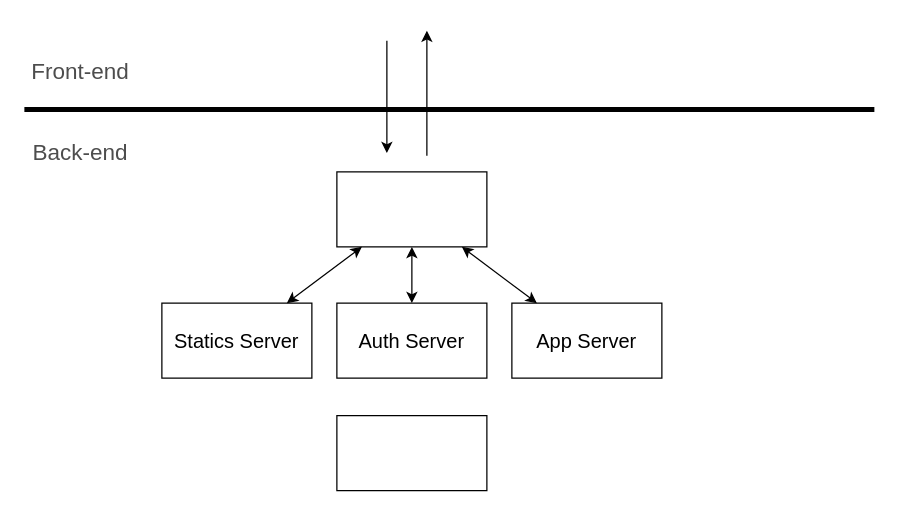
Image size: 898x513. Some labels were removed from this diagram. Each missing label, with the box of its shape:
DB Server: (336, 414, 487, 491)
Proxy Server: (336, 171, 487, 247)
